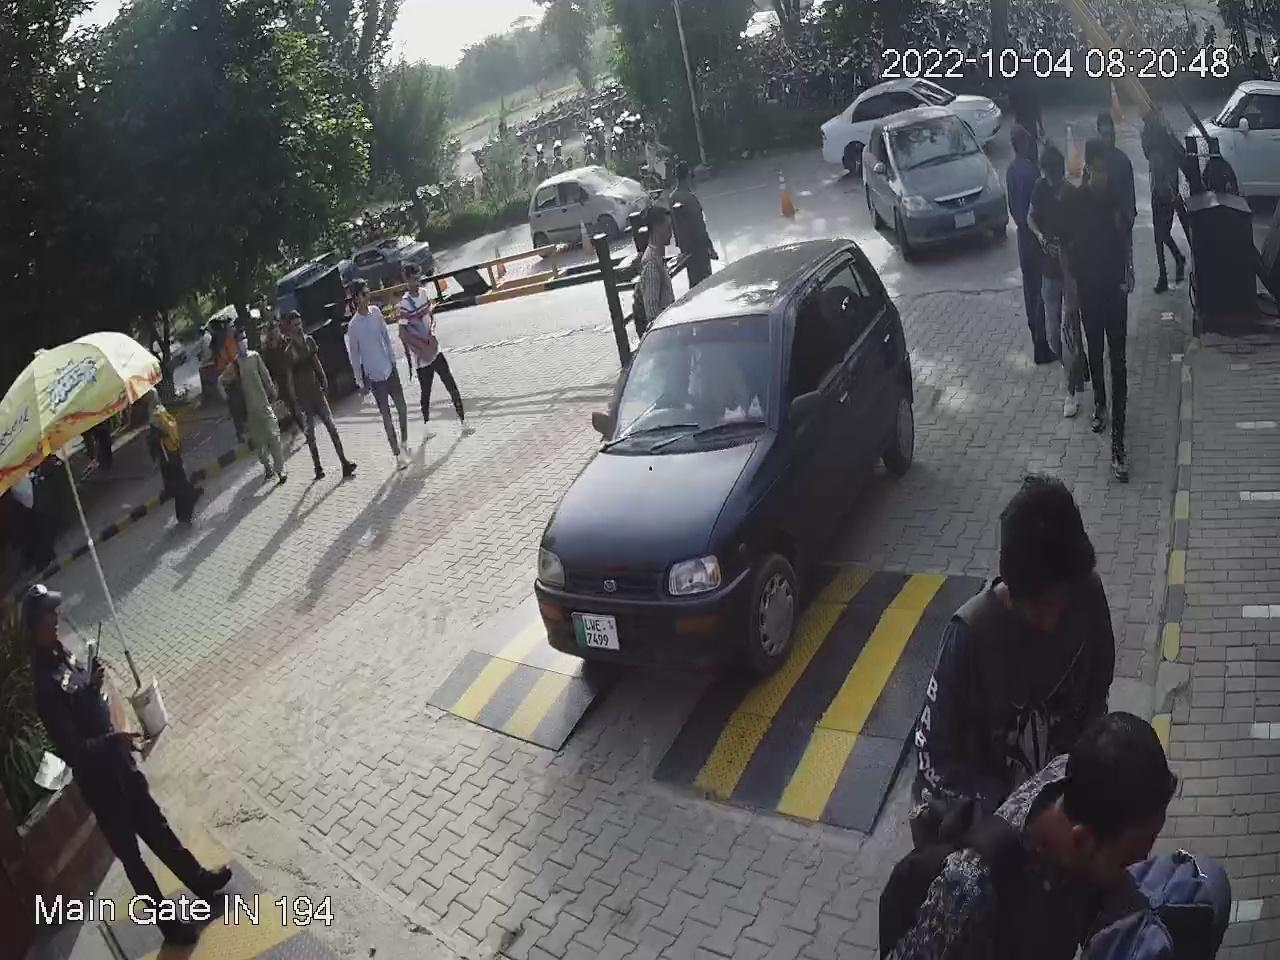windshield: (588, 303, 788, 458)
